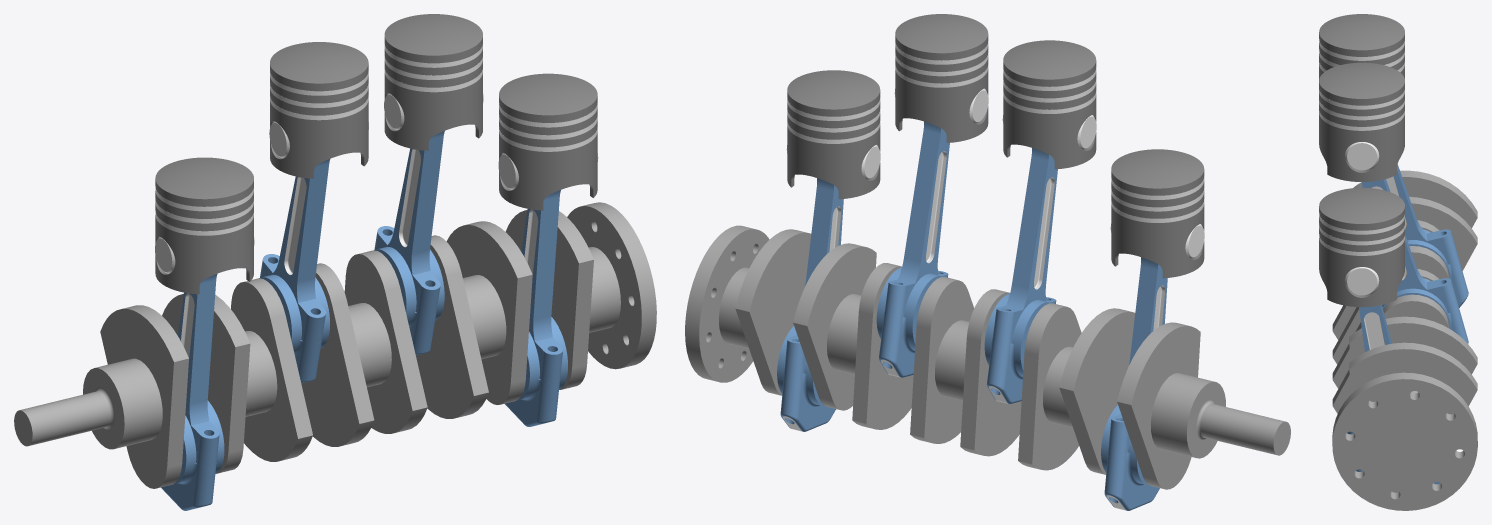
The picture shows the model from 3 angles, left to right: view 1: azimuth 30°, elevation 25°; view 2: azimuth 150°, elevation 25°; view 3: azimuth 270°, elevation 25°; orthographic projection. The views are drawn at different scales.
Visible parts, largest first — view 1: 03_crank-2, 01_piston-1, 01_piston-2, 01_piston-3, 01_piston-4, 04_con_rod-4, 04_con_rod-3, 04_con_rod-1, 04_con_rod-2, 05_con_rod_cap-2, 05_con_rod_cap-1, 05_con_rod_cap-4 (+1 smaller); view 2: 03_crank-2, 01_piston-4, 01_piston-1, 01_piston-3, 01_piston-2, 04_con_rod-3, 04_con_rod-4, 04_con_rod-1, 04_con_rod-2, 05_con_rod_cap-2, 05_con_rod_cap-1, 05_con_rod_cap-4 (+1 smaller); view 3: 03_crank-2, 01_piston-2, 01_piston-4, 01_piston-3, 04_con_rod-4, 04_con_rod-3, 04_con_rod-2, 06_piston_pin-2, 06_piston_pin-4, 05_con_rod_cap-3, 02-piston_ring-12, 02-piston_ring-6 (+6 smaller).
Boxes of the visible parts, x1,y1,x2,y2 form: 03_crank-2: (14, 202, 656, 488); 01_piston-1: (155, 157, 253, 294); 01_piston-2: (499, 73, 597, 210); 01_piston-3: (270, 42, 368, 178); 01_piston-4: (384, 14, 482, 150); 04_con_rod-4: (374, 131, 444, 317); 04_con_rod-3: (259, 159, 330, 345); 04_con_rod-1: (178, 274, 224, 467); 04_con_rod-2: (521, 190, 567, 383); 05_con_rod_cap-2: (504, 372, 567, 426); 05_con_rod_cap-1: (161, 456, 223, 510); 05_con_rod_cap-4: (406, 305, 443, 355); 03_crank-2: (685, 225, 1290, 489); 01_piston-4: (895, 14, 988, 142); 01_piston-1: (1111, 149, 1204, 278); 01_piston-3: (1003, 40, 1096, 169); 01_piston-2: (787, 70, 880, 199); 04_con_rod-3: (985, 148, 1057, 345); 04_con_rod-4: (877, 121, 949, 319); 04_con_rod-1: (1101, 257, 1167, 454); 04_con_rod-2: (777, 178, 843, 374); 05_con_rod_cap-2: (777, 367, 835, 431); 05_con_rod_cap-1: (1101, 446, 1159, 510); 05_con_rod_cap-4: (876, 310, 917, 377); 03_crank-2: (1332, 170, 1477, 510); 01_piston-2: (1319, 187, 1404, 307); 01_piston-4: (1319, 62, 1404, 181); 01_piston-3: (1319, 14, 1404, 90); 04_con_rod-4: (1362, 179, 1458, 317); 04_con_rod-3: (1386, 164, 1458, 268); 04_con_rod-2: (1347, 305, 1391, 434); 06_piston_pin-2: (1345, 267, 1379, 296); 06_piston_pin-4: (1345, 142, 1379, 171); 05_con_rod_cap-3: (1447, 258, 1468, 307); 02-piston_ring-12: (1319, 89, 1404, 109); 02-piston_ring-6: (1319, 214, 1404, 234).
Size of the model in its own units: 0.589 by 0.4119 by 0.1569.
